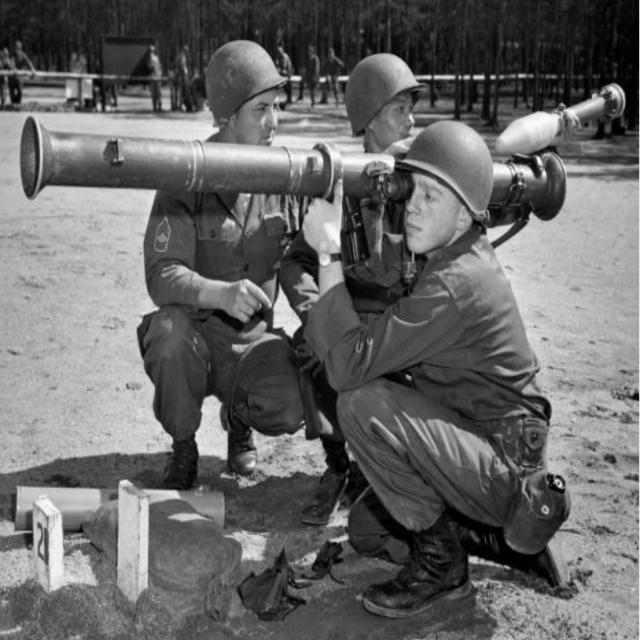bazooka: (16, 98, 577, 228)
